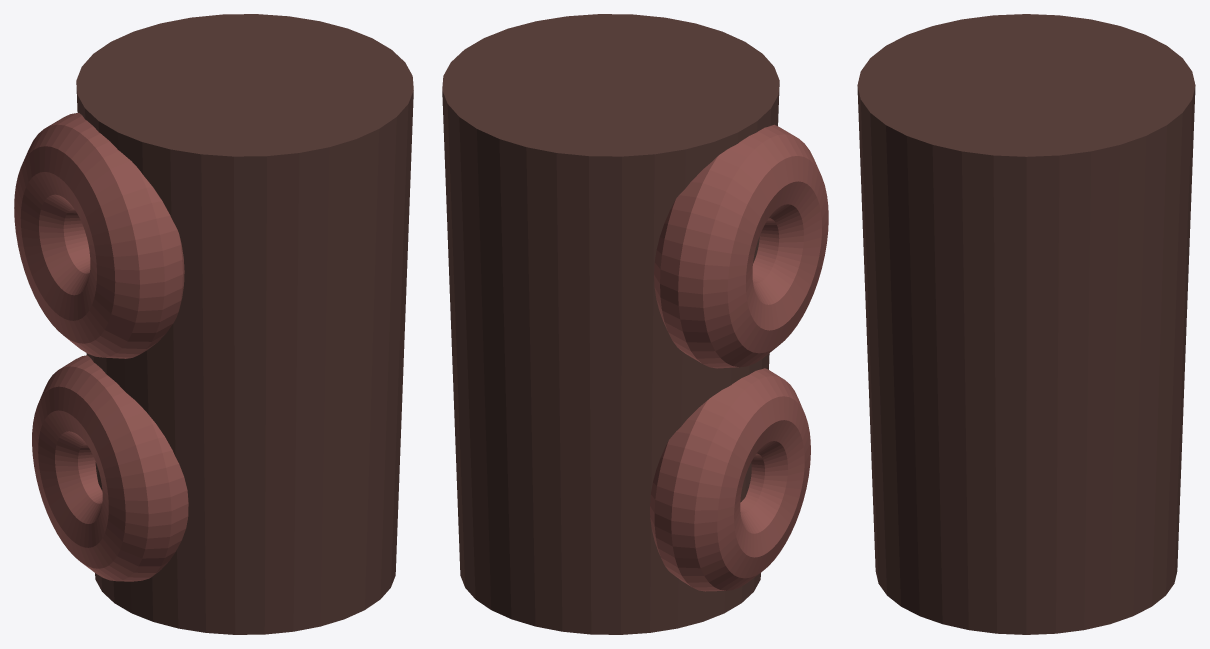
The picture shows the model from 3 angles, left to right: view 1: azimuth 30°, elevation 25°; view 2: azimuth 150°, elevation 25°; view 3: azimuth 270°, elevation 25°; orthographic projection.
Visible parts, largest first — view 1: Torus.011; view 2: Torus.011; view 3: Torus.011.
Boxes of the visible parts, <box> form: Torus.011: <box>14,14,413,634</box>; Torus.011: <box>442,14,828,634</box>; Torus.011: <box>857,14,1195,634</box>.
Size of the model in its own units: 126 by 180 by 114.
